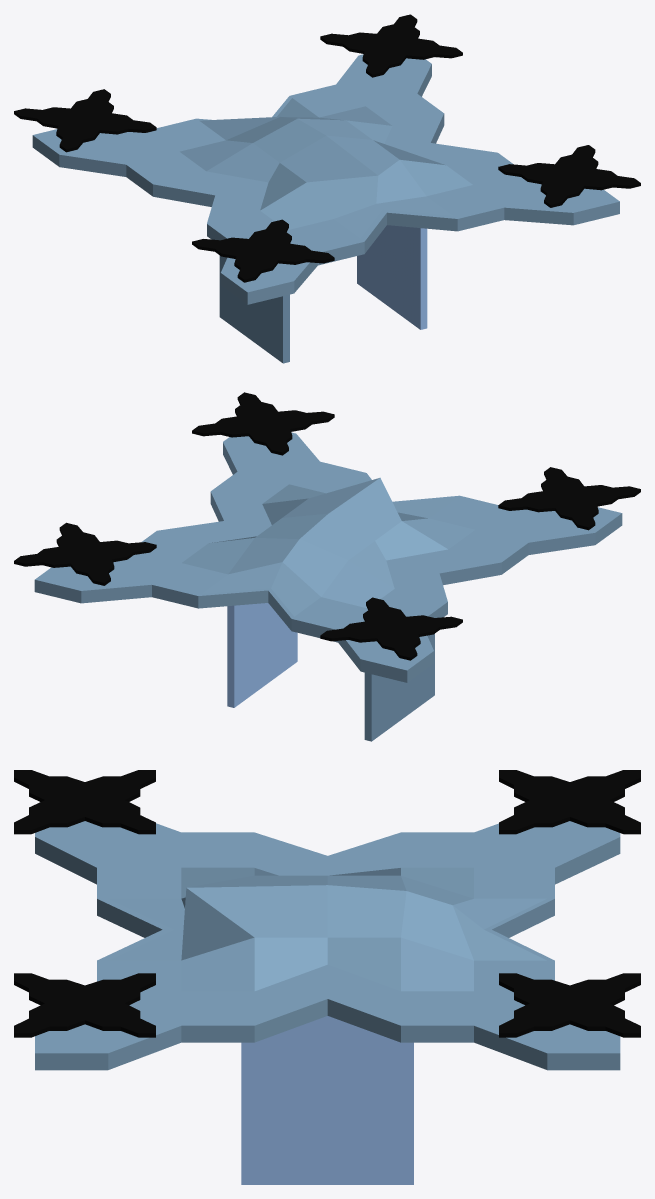
The model's file is Drone1.fbx.
3 views of the same model, one above another, from view 1: azimuth 30°, elevation 25°; view 2: azimuth 150°, elevation 25°; view 3: azimuth 270°, elevation 25° (orthographic). The views are drawn at different scales.
Parts seen in each view (by area): view 1: Drone, PackageRight, Rotor.002, Rotor.003, Rotor.001, Rotor, PackageLeft; view 2: Drone, PackageRight, Rotor.002, Rotor.003, Rotor, Rotor.001, PackageLeft; view 3: Drone, PackageRight, Rotor.001, Rotor, Rotor.002, Rotor.003.
Part boxes in pixels (box(x1,y1,x2,y2)): Drone: box(32, 54, 619, 304); PackageRight: box(357, 225, 427, 329); Rotor.002: box(320, 14, 462, 77); Rotor.003: box(14, 89, 156, 152); Rotor.001: box(498, 145, 640, 207); Rotor: box(192, 219, 334, 282); PackageLeft: box(219, 255, 289, 363); Drone: box(34, 432, 622, 682); PackageRight: box(227, 603, 297, 707); Rotor.002: box(14, 522, 156, 585); Rotor.003: box(320, 597, 462, 660); Rotor: box(498, 467, 640, 530); Rotor.001: box(192, 392, 334, 455); PackageLeft: box(364, 634, 434, 741); Drone: box(35, 821, 620, 1070); PackageRight: box(241, 1016, 413, 1184); Rotor.001: box(14, 973, 155, 1037); Rotor: box(14, 770, 155, 834); Rotor.002: box(499, 973, 640, 1037); Rotor.003: box(499, 770, 640, 834).
Bounding box in the file's own units: 722 × 726 × 324.
